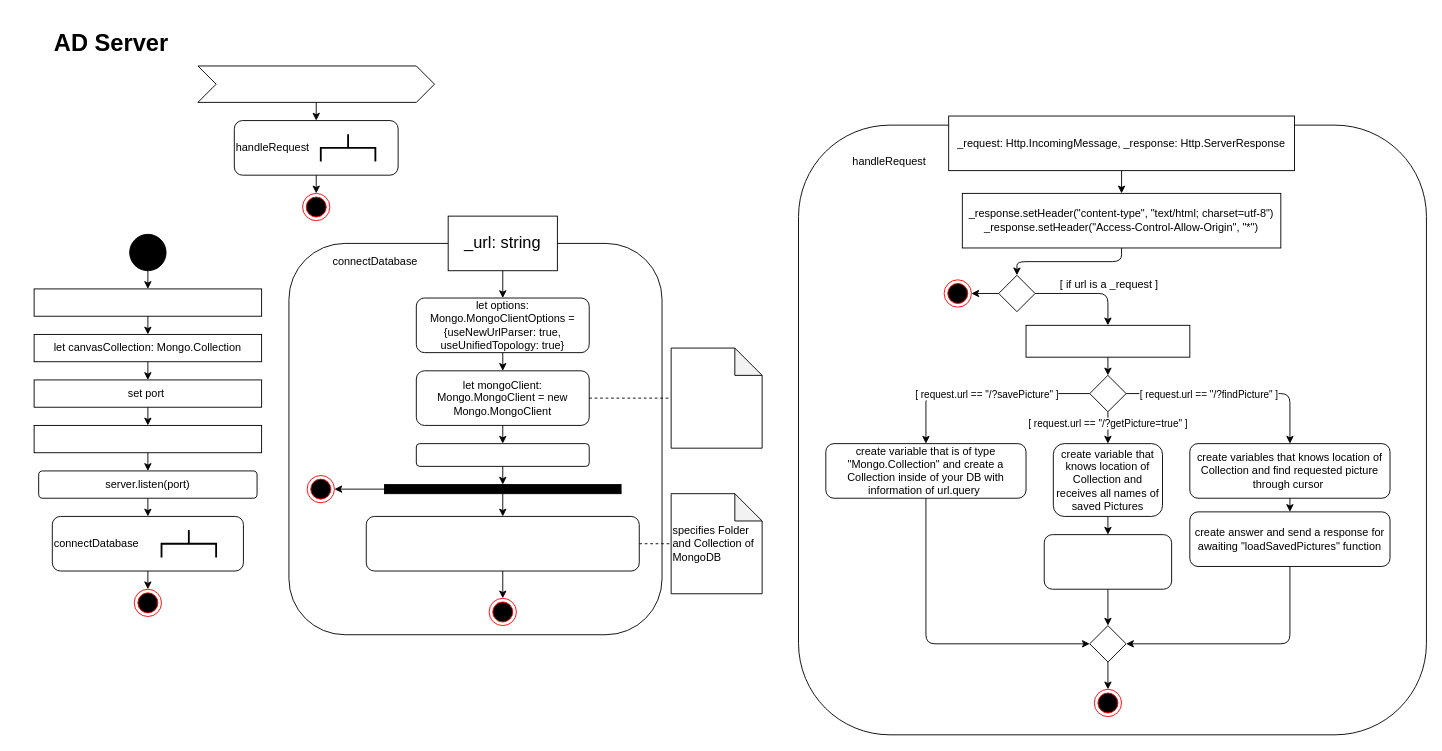
Some shapes in this 1442 by 751 pixel diagram are drawn without their labels. The centre of each missing label's shape, as x and y in pixels:
canvasCollection = mongoClient.db("Zauberbild").collection("Pictures"): (502,543)
create answer and send a response for awaiting "findPicture" function: (1107,561)
create new MongoClient through Constructor and give databaseUrl & options: (716,397)
install "request" EventListener to server: (316,83)
let databaseUrl: string = "mongodb+srv[...]": (147,439)
let server: HTTP.Server = Http.createServer: (147,302)
let url: Url.UrlWithParsedQuery = Url.parse(_request.url, true): (1107,340)
mongoClient.connect(): (502,454)
